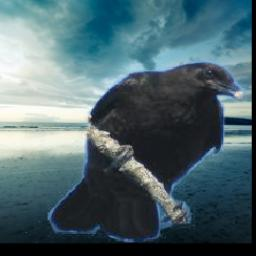Crow: (48, 60, 246, 242)
